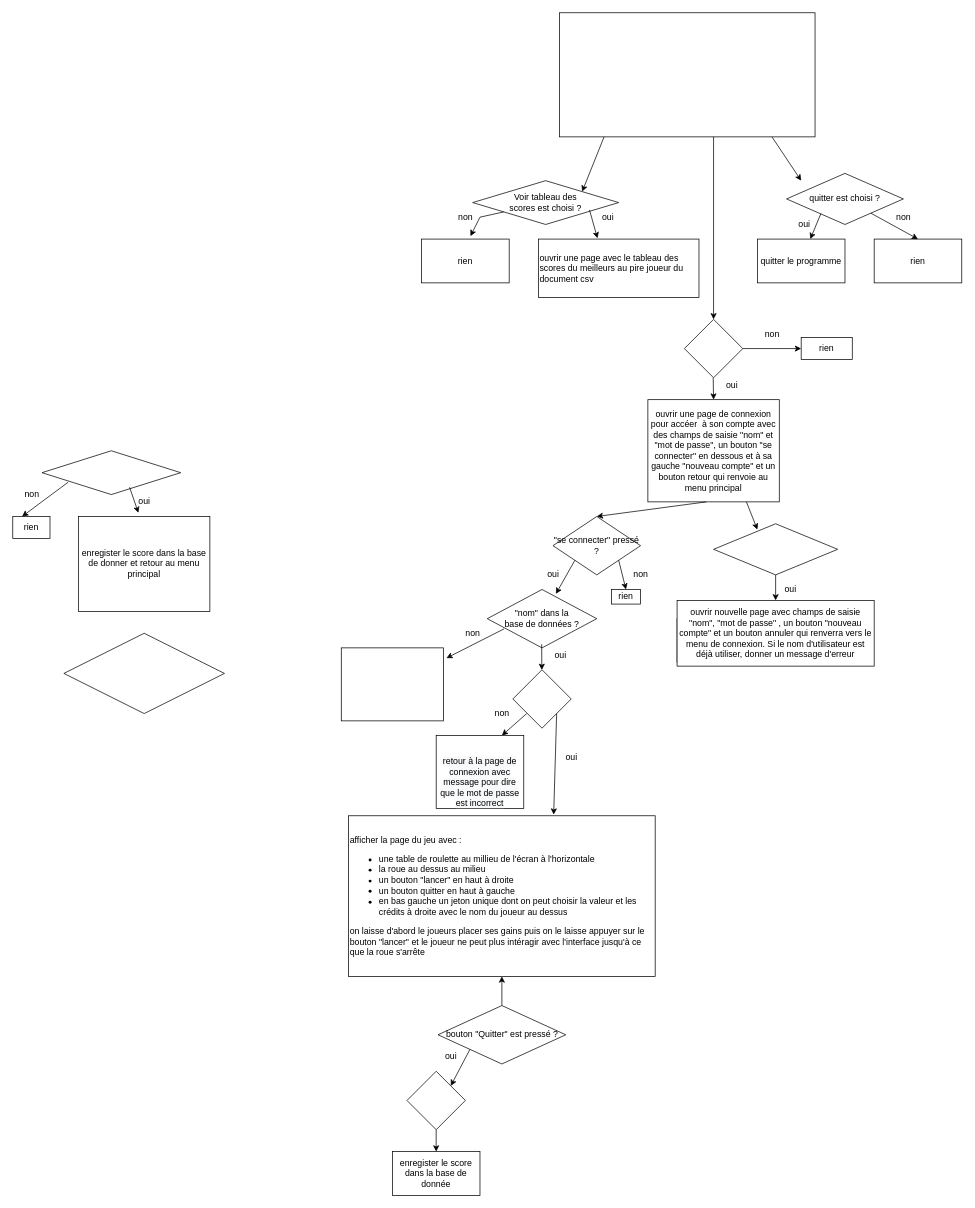
Some shapes in this 975 by 1208 pixel diagram are drawn without their labels. The shapes that lost their labels are listed below. From the top down, each one's centre as x and y in pixels, then its label:
point 687,74: Menu Principal : Jouer Voir les scores des joueurs Quitter
point 713,348: jouer est choisi ?
point 111,472: quitter est pressé ?
point 775,549: "nouveau compte" est pressé ?
point 143,673: score plus petit que celui dans la base de données ?
point 392,684: retour à la page de connexion avec message disant que l'utilisateur est inconnu
point 541,698: "mot de passe" est bon ?
point 435,1100: enregistrer le score ?
